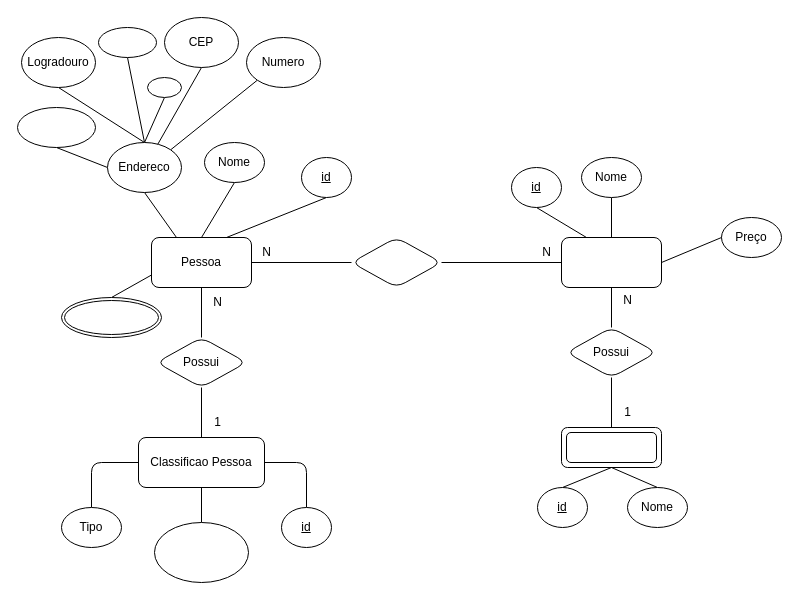
Image size: 799x600. Some labels were removed from this diagram. The shapes that lost their labels are listed below. From the top down, each one's centre as x and y in pixels, then its label:
the point at 127,42: Bairro
the point at 164,87: UF
the point at 56,127: Complemento
the point at 396,262: Recebe
the point at 611,262: Presente
the point at 111,317: telefones
the point at 611,447: Tipo Presente
the point at 201,552: Valor Maximo
